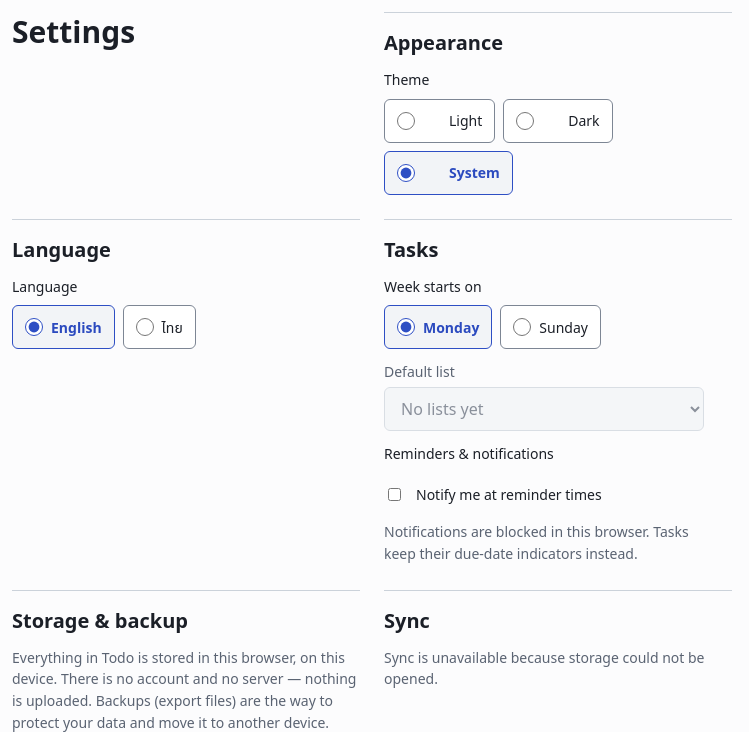
Test case: language switcher (settings, design §4.9 item 2) › switches to Thai: html[lang], Thai catalog and the controlled radio together
The image size is (749, 732).
Click the radio button labelled "ไทย". click: (145, 327)
box: [136,318,154,336]
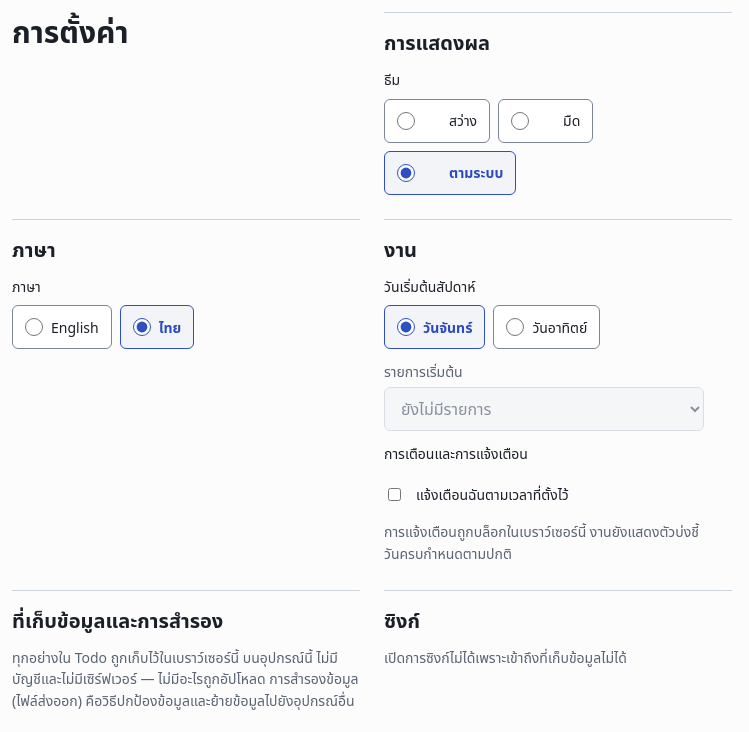
Now the radio button labelled "ไทย" is checked, box [133,318,151,336]
Now the radio button labelled "English" is not checked, box [25,318,43,336]
